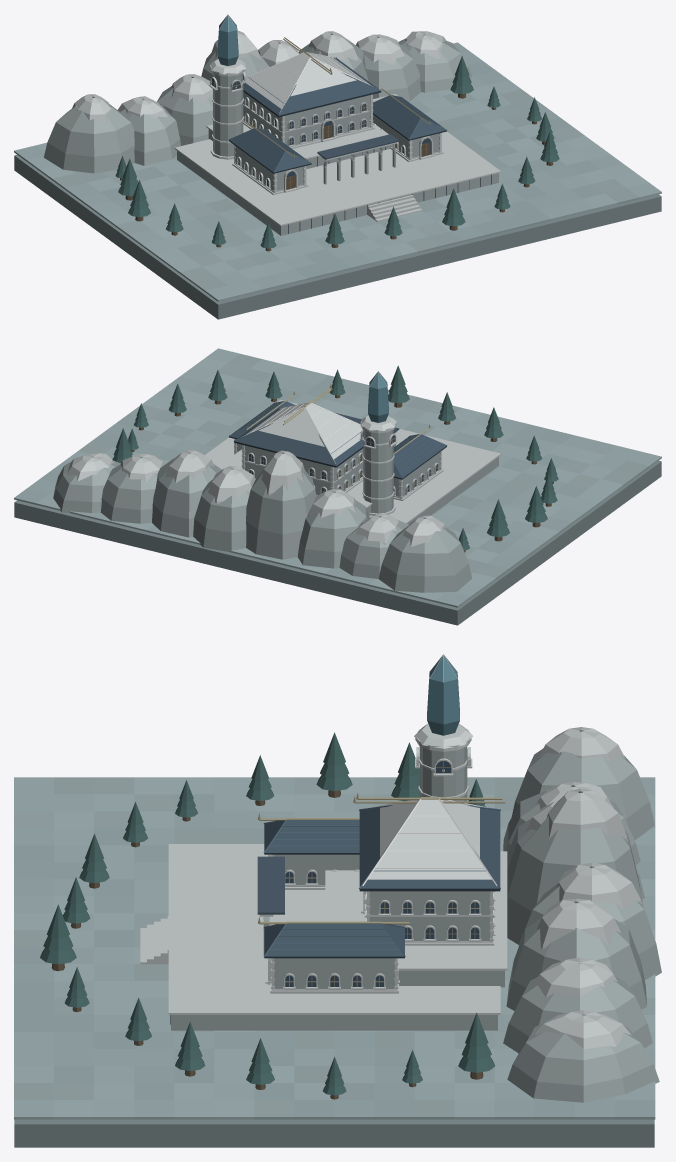
The model's file is ice.glb.
The picture shows the model from 3 angles, top to bottom: view 1: azimuth 30°, elevation 25°; view 2: azimuth 150°, elevation 25°; view 3: azimuth 270°, elevation 25°; orthographic projection. The views are drawn at different scales.
Parts seen in each view (by area): view 1: site, stone-ledge, archive-hall-roof, archive-hall, landscape, signal, signal-roof; view 2: site, archive-hall-roof, landscape, stone-ledge, archive-hall, signal, signal-roof; view 3: site, stone-ledge, archive-hall-roof, archive-hall, landscape, signal-roof, signal.
Part boxes in pixels (x1,y1,x2,y2): site: (14, 30, 661, 319); stone-ledge: (174, 94, 501, 235); archive-hall-roof: (228, 37, 446, 173); archive-hall: (232, 91, 443, 194); landscape: (115, 56, 559, 251); signal: (209, 62, 246, 159); signal-roof: (210, 14, 246, 74); site: (14, 348, 661, 625); archive-hall-roof: (229, 384, 447, 479); landscape: (112, 365, 558, 552); stone-ledge: (204, 400, 501, 524); archive-hall: (234, 431, 443, 500); signal: (359, 421, 397, 515); signal-roof: (360, 371, 396, 430); site: (14, 727, 661, 1147); stone-ledge: (140, 844, 507, 1030); archive-hall-roof: (257, 792, 505, 958); archive-hall: (259, 854, 495, 993); landscape: (40, 732, 494, 1099); signal-roof: (414, 654, 473, 748); signal: (415, 728, 472, 801).
Size of the model in its own units: 59.01 by 21.54 by 47.56.
